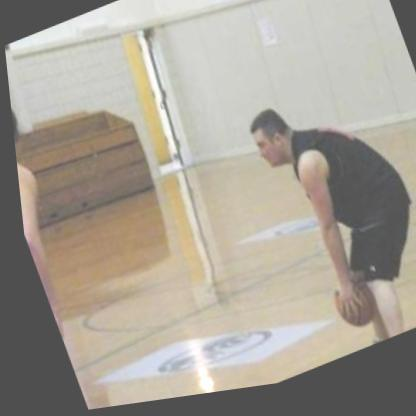basketball: (317, 275, 381, 348)
